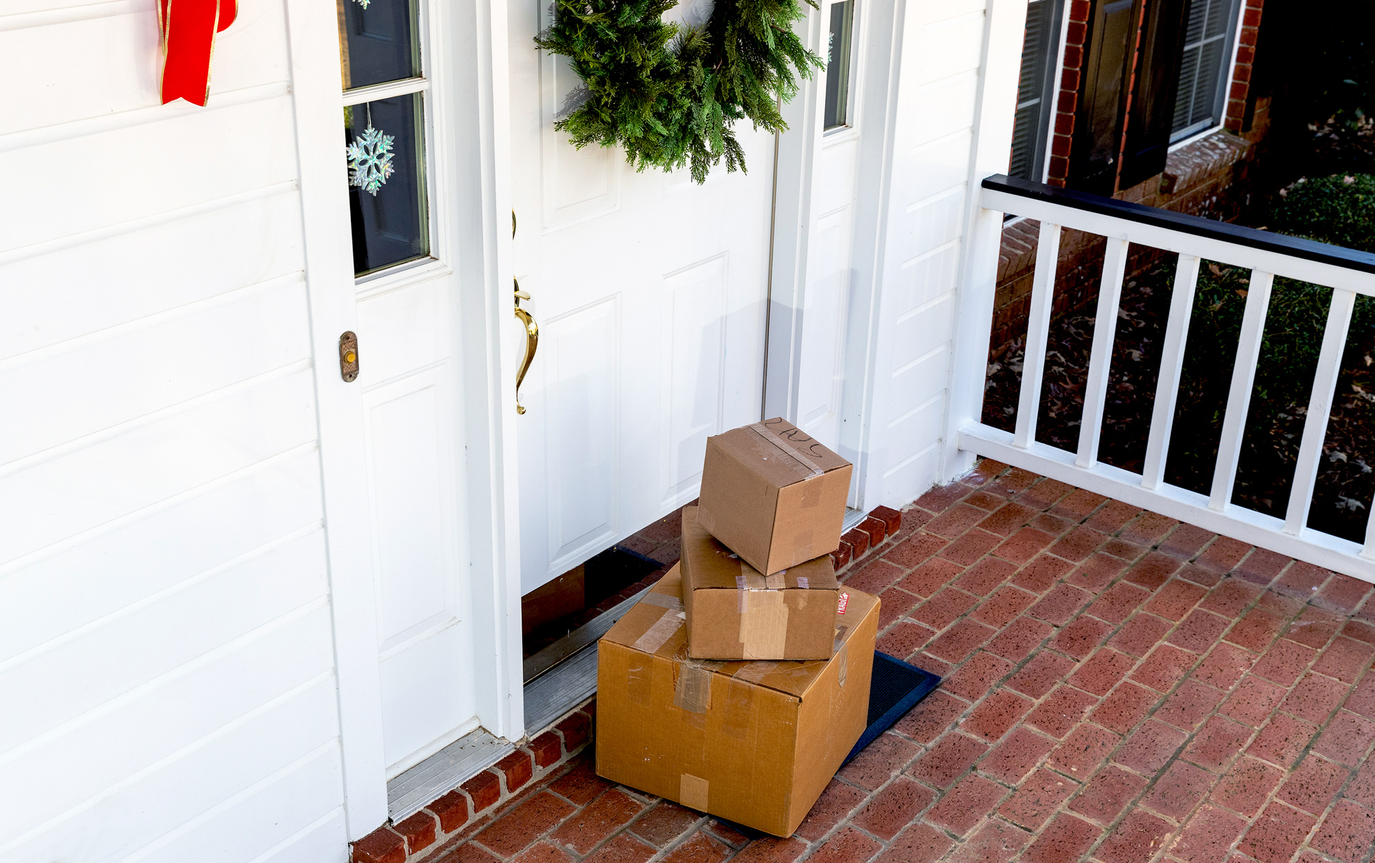package: (582, 591, 894, 839), (686, 412, 856, 579), (674, 557, 845, 663)
